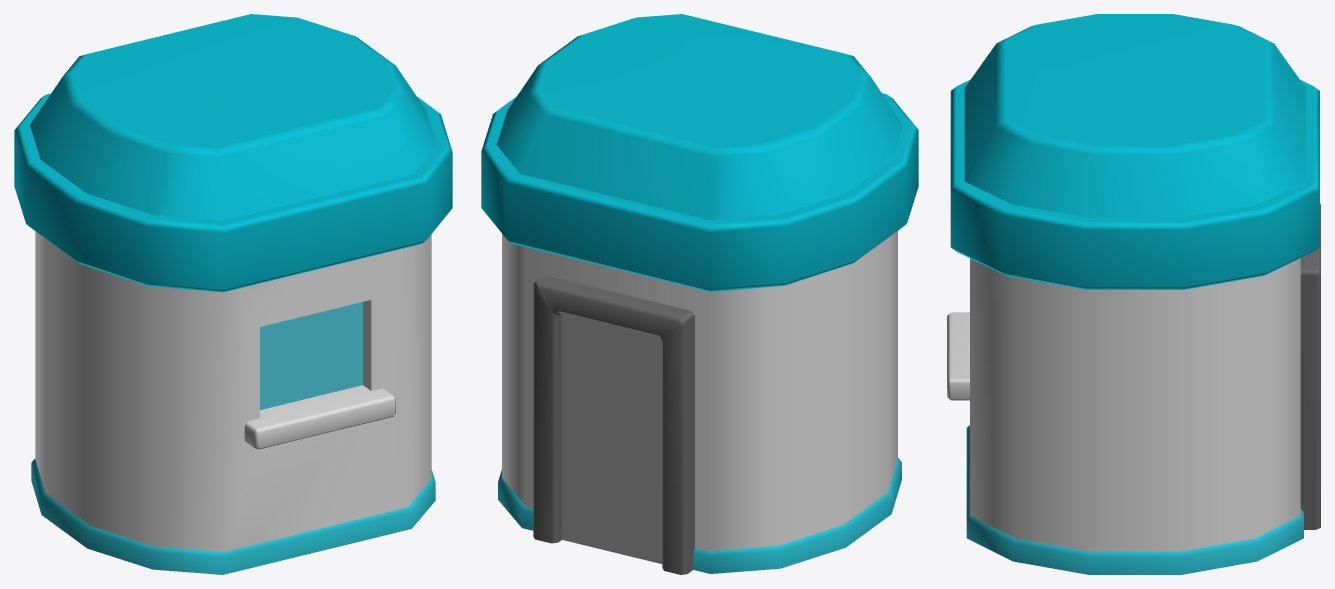
File: ticket_stall_006.gltf
The picture shows the model from 3 angles, left to right: view 1: azimuth 30°, elevation 25°; view 2: azimuth 150°, elevation 25°; view 3: azimuth 270°, elevation 25°; orthographic projection.
Visible parts, largest first — view 1: ticket_stall_006; view 2: ticket_stall_006; view 3: ticket_stall_006.
Boxes of the visible parts, box(x1,y1,x2,y2) form: ticket_stall_006: box(14, 14, 452, 574); ticket_stall_006: box(481, 14, 918, 574); ticket_stall_006: box(947, 14, 1320, 574).
Size of the model in its own units: 3.12 by 3.34 by 2.75.
1 material, 1 textured.
